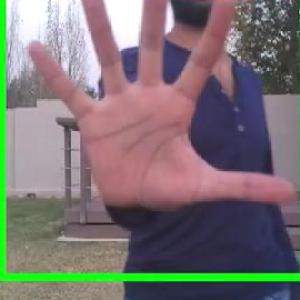follow_hand: (22, 0, 298, 222)
